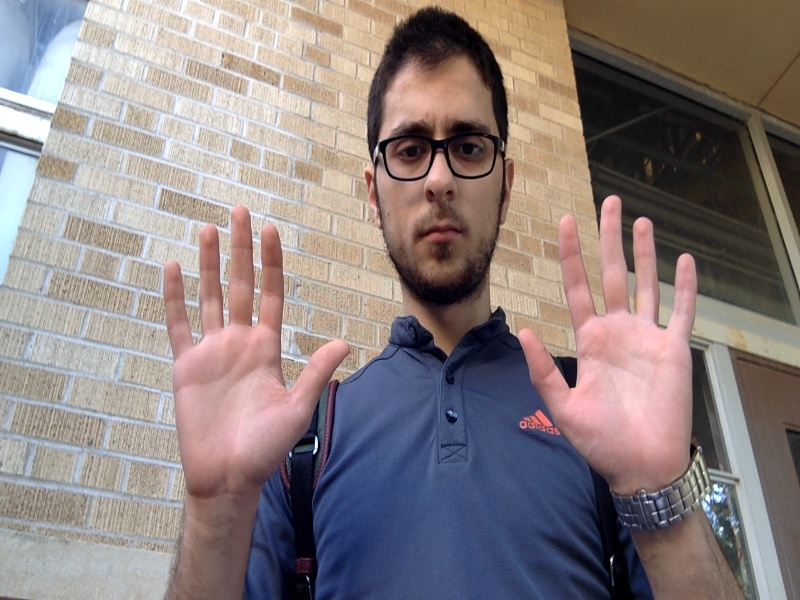5-hand: (163, 206, 349, 496), (520, 193, 696, 476)
